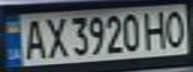0: (121, 10, 142, 52)
2: (103, 11, 127, 54)
3: (66, 12, 90, 57)
9: (87, 12, 109, 56)
A: (18, 16, 48, 61)
H: (142, 8, 172, 51)
O: (160, 7, 190, 48)
X: (42, 14, 69, 58)
